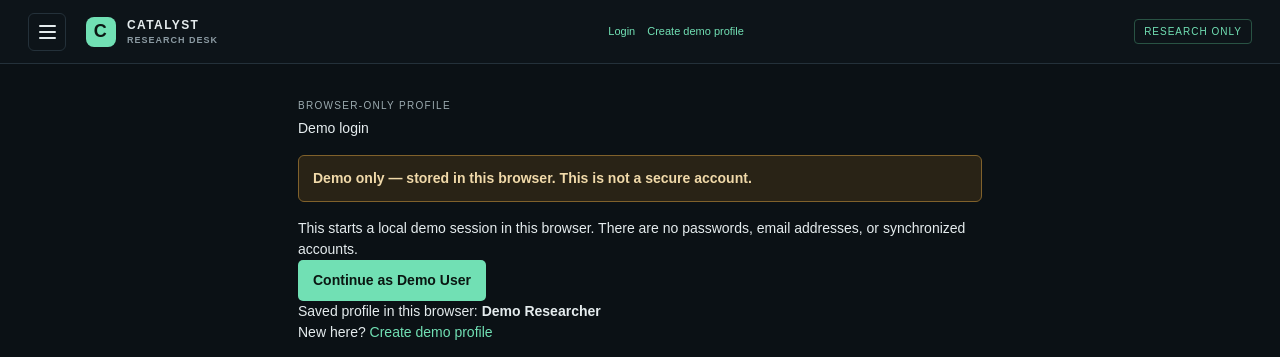
Test: local demo profile flow › continues the existing profile from demo login and signs out without deleting it
The image size is (1280, 357).
Click the button "Continue as Demo User": (392,280) [298, 260, 486, 301]
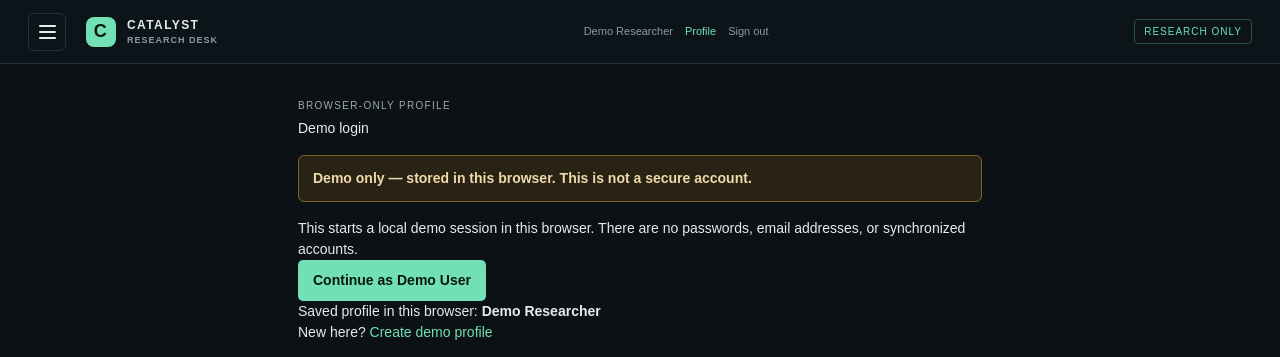
Expected: the text "Demo Researcher" is shown, [584, 23, 673, 40]
Click the button "Sign out": (748,32) [728, 23, 768, 40]
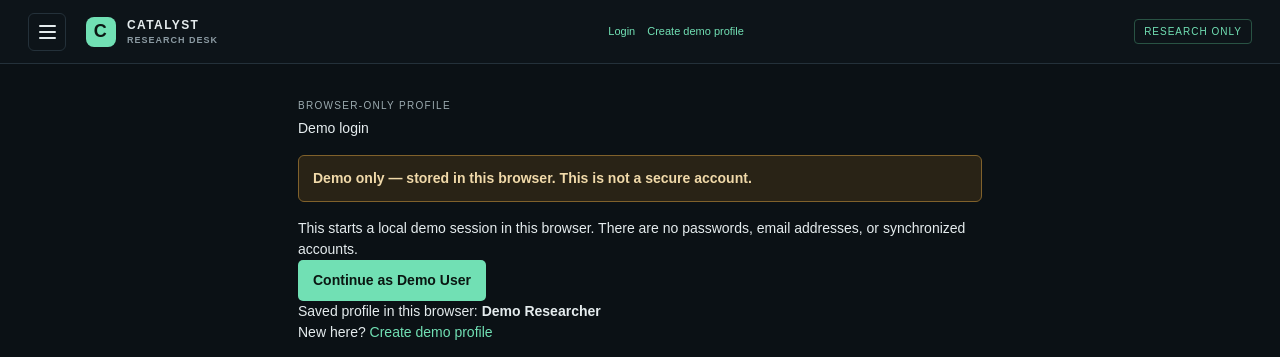
Now the link to "/login" is shown, box [608, 23, 635, 40]
